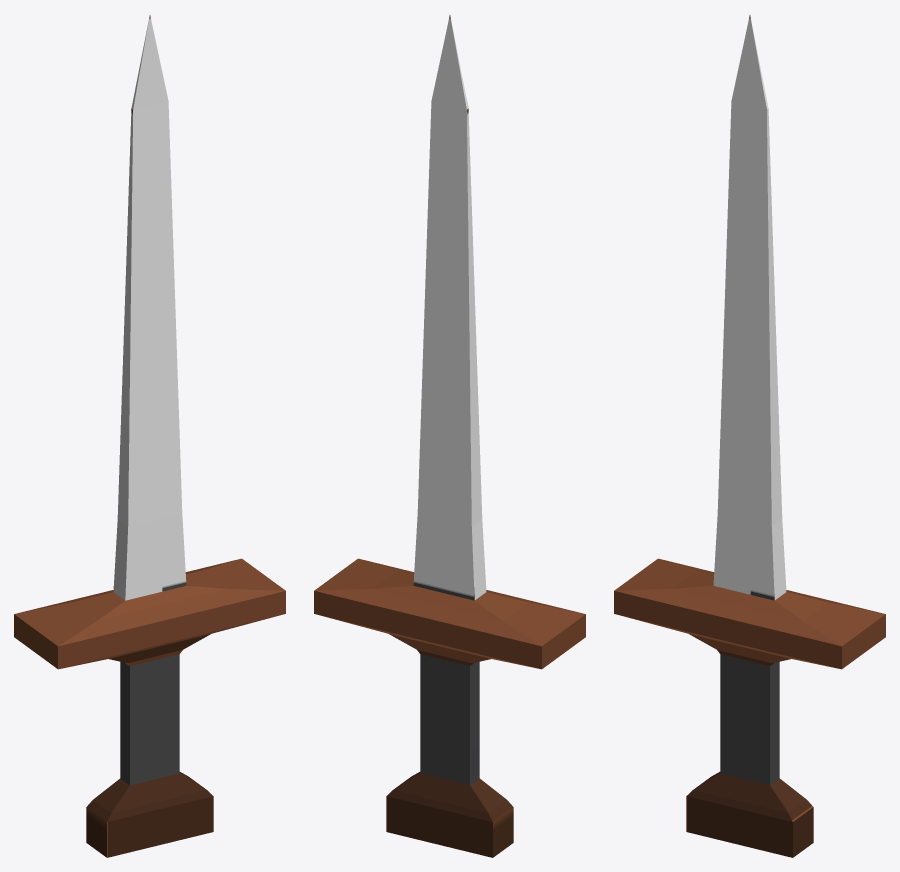
The model's file is Sword.obj.
3 views of the same model, side by side, from view 1: azimuth 30°, elevation 25°; view 2: azimuth 150°, elevation 25°; view 3: azimuth 330°, elevation 25° (orthographic).
Visible parts, largest first — view 1: Cube; view 2: Cube; view 3: Cube.
Boxes of the visible parts, box(x1,y1,x2,y2) form: Cube: box(14, 15, 285, 857); Cube: box(314, 15, 585, 857); Cube: box(614, 15, 885, 857).
Bounding box in the file's own units: 0.7993 × 2.76 × 0.2679.
Materials: 1 (1 with a texture image).
